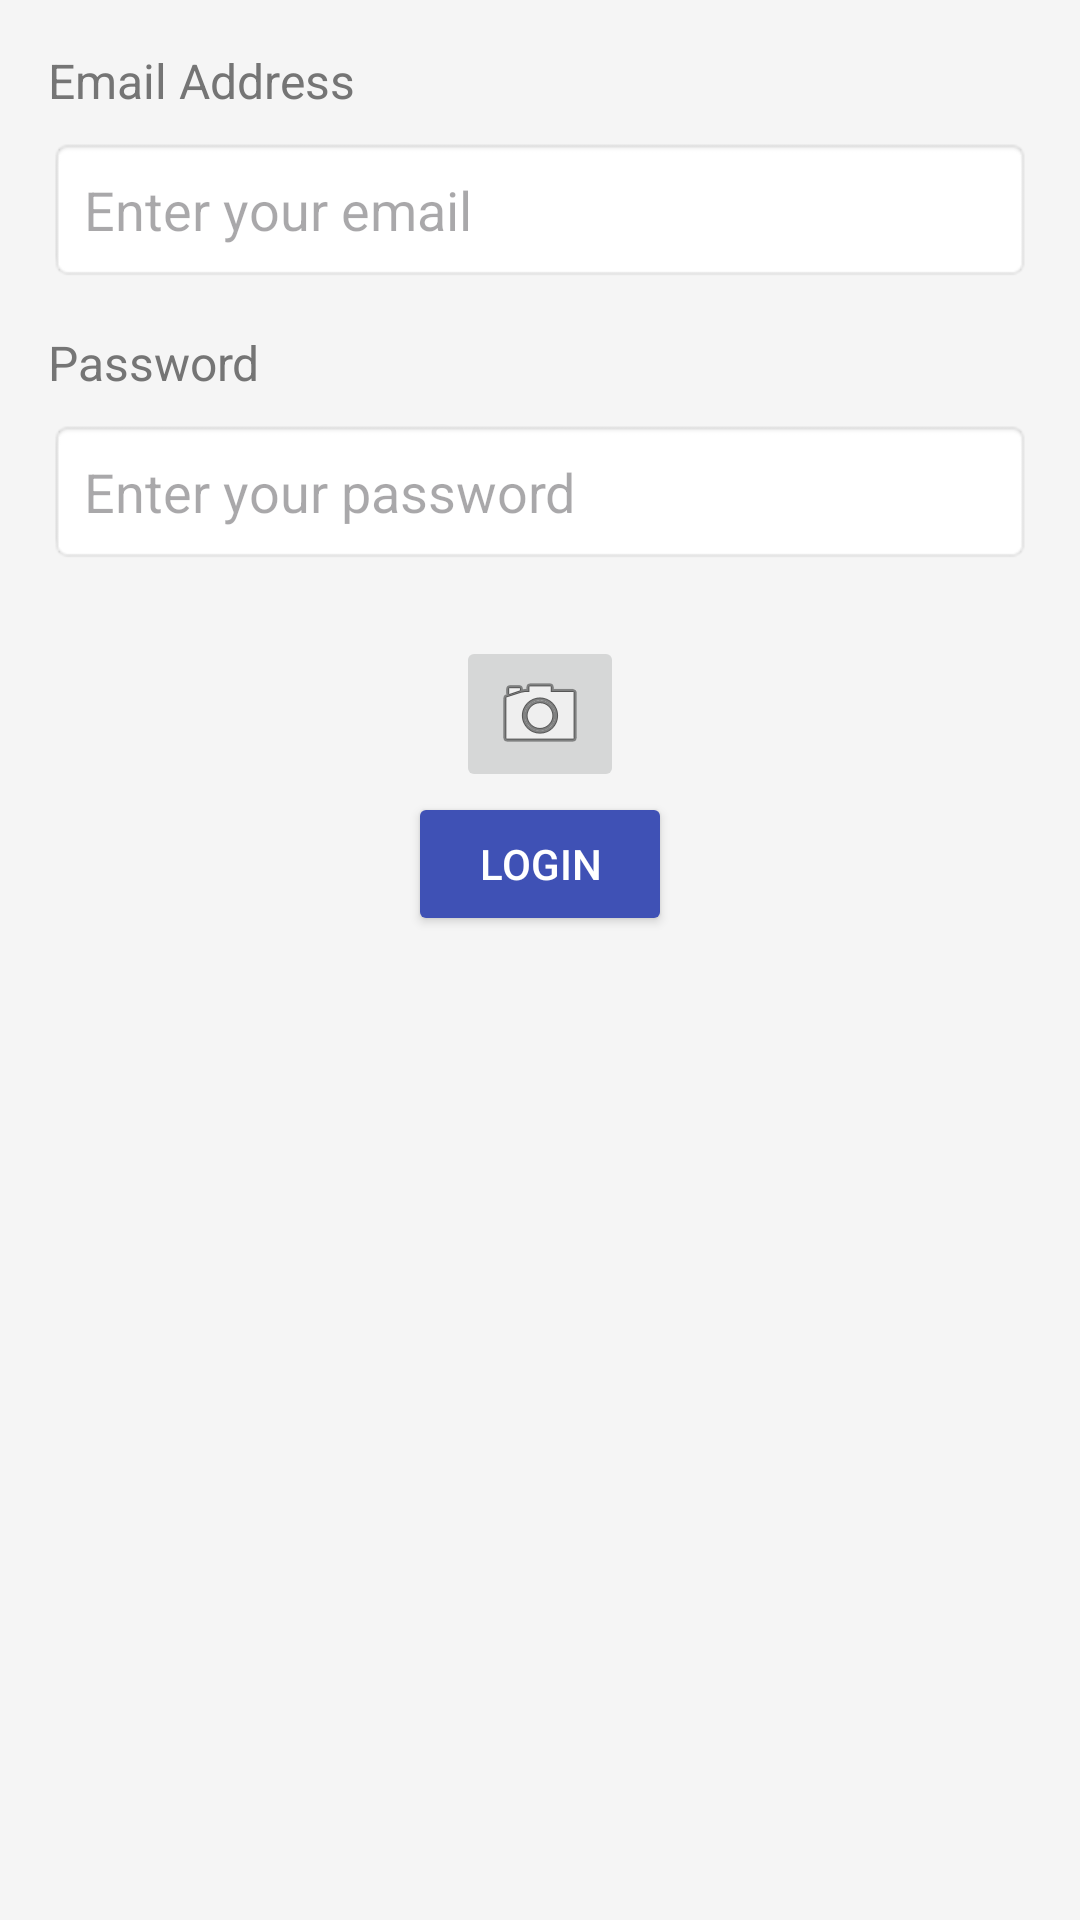

Named icons in this screenshot (1080px×1920px) and their centers, [x,y]:
Take a picture: [540,714]
